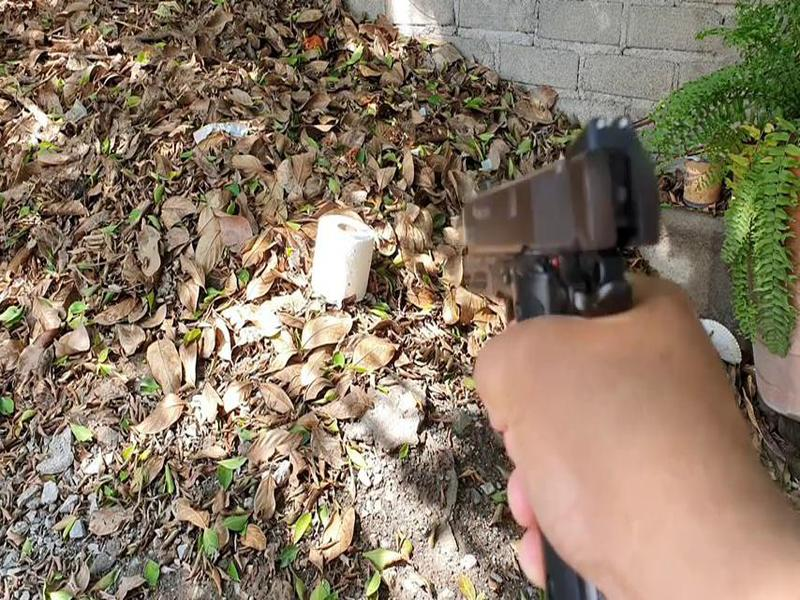Pistola: (431, 114, 677, 378)
